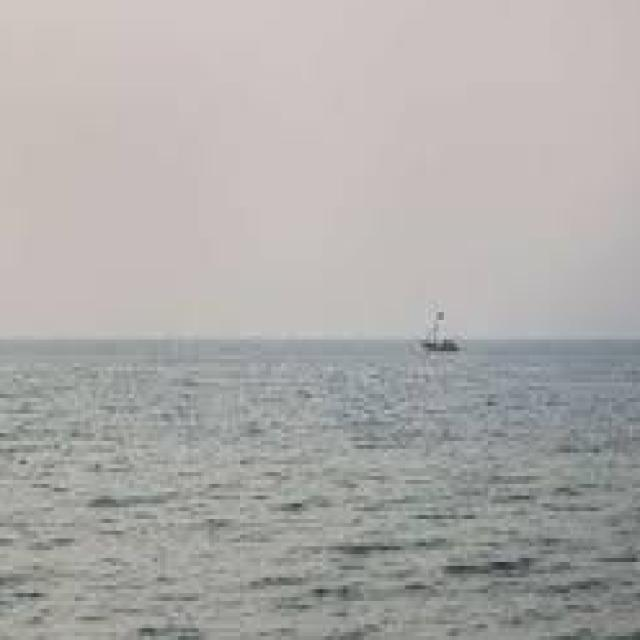fishing boat: (414, 298, 473, 360)
